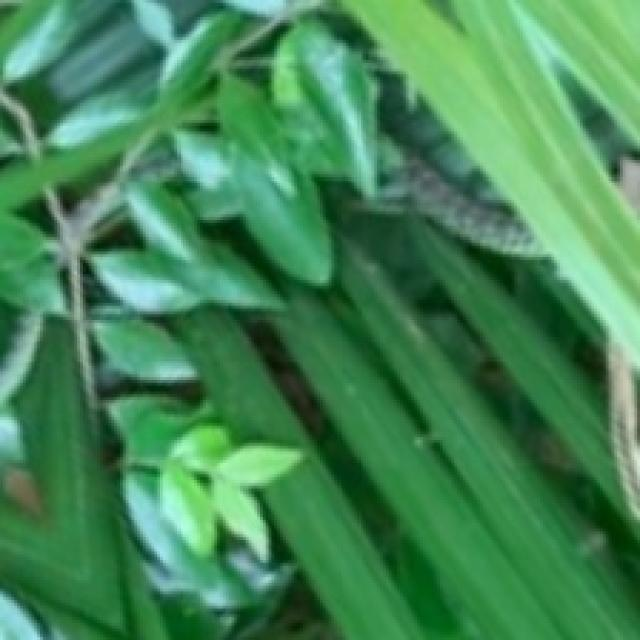paradise tree snake: (381, 159, 542, 257), (0, 311, 44, 404), (141, 156, 179, 179)
